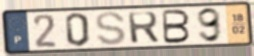0: (63, 11, 92, 48)
2: (33, 13, 58, 49)
9: (195, 7, 224, 44)
B: (161, 9, 192, 45)
R: (126, 10, 161, 45)
S: (94, 10, 128, 47)
